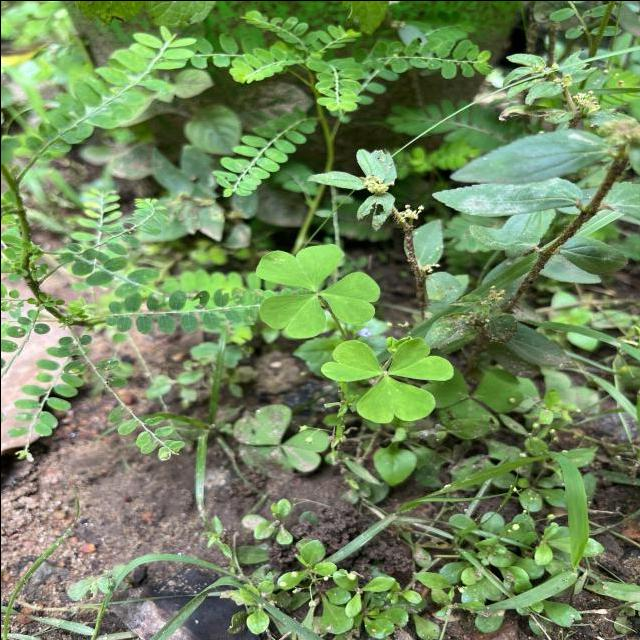Oxalis corniculata: (252, 242, 381, 338), (318, 336, 454, 424)
